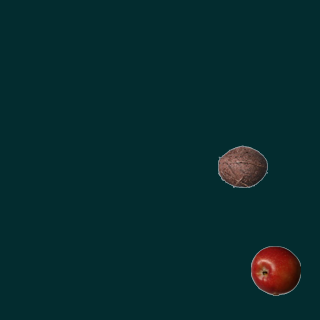Apple Braeburn: (250, 245, 300, 295)
Cocos: (217, 141, 267, 191)
